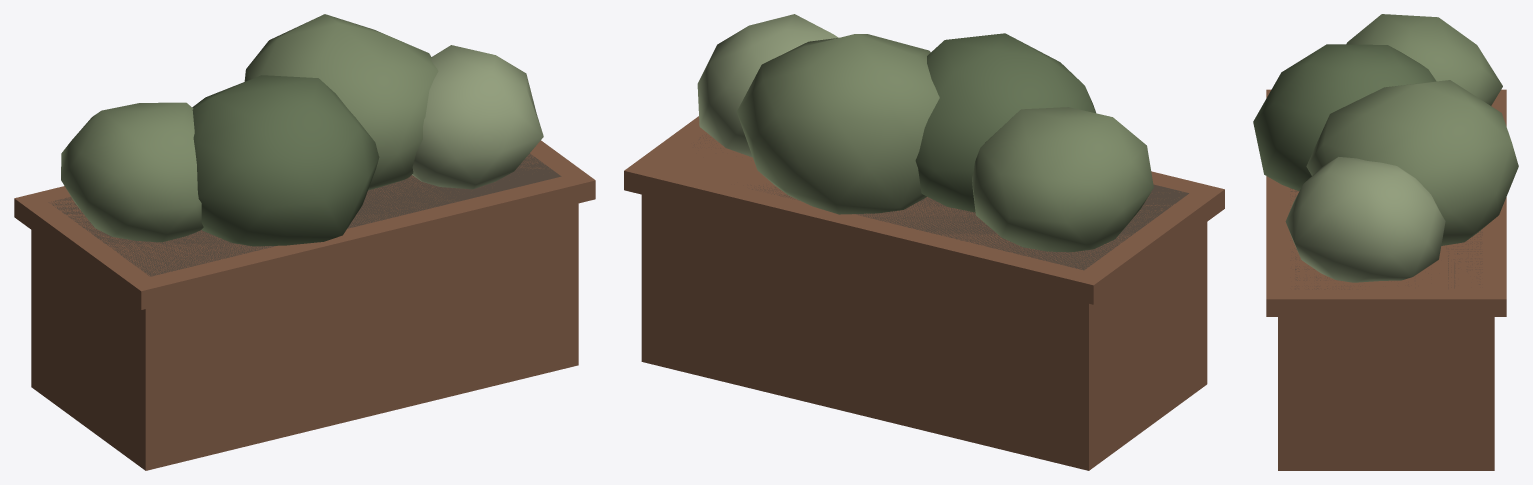
Rendered from planter-CacCLJeE.glb.
3 renders of one model, left to right at view 1: azimuth 30°, elevation 25°; view 2: azimuth 150°, elevation 25°; view 3: azimuth 270°, elevation 25°, orthographic. The views are drawn at different scales.
Visible parts, largest first — view 1: planter; view 2: planter; view 3: planter.
Part boxes in pixels (<box>): planter: <box>14,14,595,470</box>; planter: <box>624,14,1224,470</box>; planter: <box>1253,14,1518,470</box>.
Size of the model in its own units: 1.26 by 0.8693 by 0.6747.
